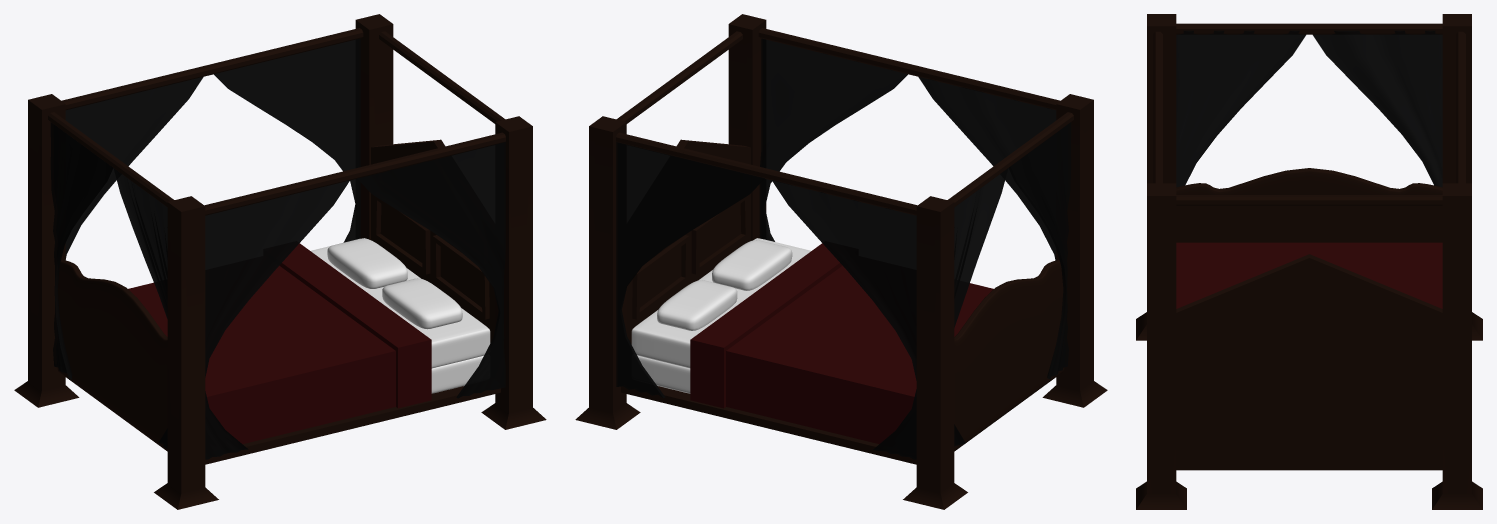
Rendered from bed.fbx.
The picture shows the model from 3 angles, left to right: view 1: azimuth 30°, elevation 25°; view 2: azimuth 150°, elevation 25°; view 3: azimuth 270°, elevation 25°; orthographic projection. The views are drawn at different scales.
Visible parts, largest first — view 1: pPlane1, polySurface1, sheets, polySurface3, pPlane3, polySurface2, pCube6, mattress2, pCube1, pCube2, pCube5, pCube4 (+1 smaller); view 2: pPlane1, polySurface1, sheets, polySurface3, pPlane3, polySurface2, pCube6, mattress2, pCube1, pCube2, pCube4, pCube5 (+1 smaller); view 3: polySurface2, polySurface1, pPlane3, polySurface3, sheets, pCube1, pCube6.
Boxes of the visible parts, x1=… form: pPlane1: x1=65, y1=38, x2=505, y2=459; polySurface1: x1=14, y1=14, x2=546, y2=509; sheets: x1=128, y1=243, x2=431, y2=444; polySurface3: x1=57, y1=260, x2=167, y2=451; pPlane3: x1=50, y1=122, x2=167, y2=448; polySurface2: x1=371, y1=139, x2=495, y2=342; pCube6: x1=61, y1=28, x2=505, y2=215; mattress2: x1=311, y1=238, x2=490, y2=368; pCube1: x1=48, y1=31, x2=505, y2=207; pCube2: x1=205, y1=388, x2=500, y2=464; pCube5: x1=382, y1=278, x2=462, y2=329; pCube4: x1=327, y1=238, x2=407, y2=288; pPlane1: x1=616, y1=38, x2=1056, y2=459; polySurface1: x1=575, y1=14, x2=1107, y2=509; sheets: x1=690, y1=243, x2=993, y2=444; polySurface3: x1=954, y1=260, x2=1064, y2=451; pPlane3: x1=954, y1=122, x2=1071, y2=446; polySurface2: x1=626, y1=139, x2=750, y2=344; pCube6: x1=616, y1=28, x2=1060, y2=215; mattress2: x1=631, y1=238, x2=810, y2=368; pCube1: x1=616, y1=31, x2=1073, y2=207; pCube2: x1=621, y1=386, x2=916, y2=464; pCube4: x1=657, y1=280, x2=737, y2=330; pCube5: x1=712, y1=240, x2=792, y2=290; polySurface2: x1=1176, y1=254, x2=1442, y2=470; polySurface1: x1=1136, y1=14, x2=1482, y2=509; pPlane3: x1=1176, y1=30, x2=1442, y2=187; polySurface3: x1=1176, y1=168, x2=1442, y2=242; sheets: x1=1176, y1=242, x2=1442, y2=308; pCube1: x1=1176, y1=23, x2=1442, y2=205; pCube6: x1=1153, y1=31, x2=1465, y2=183.
Size of the model in its own units: 9.79 by 7.4 by 7.51.
